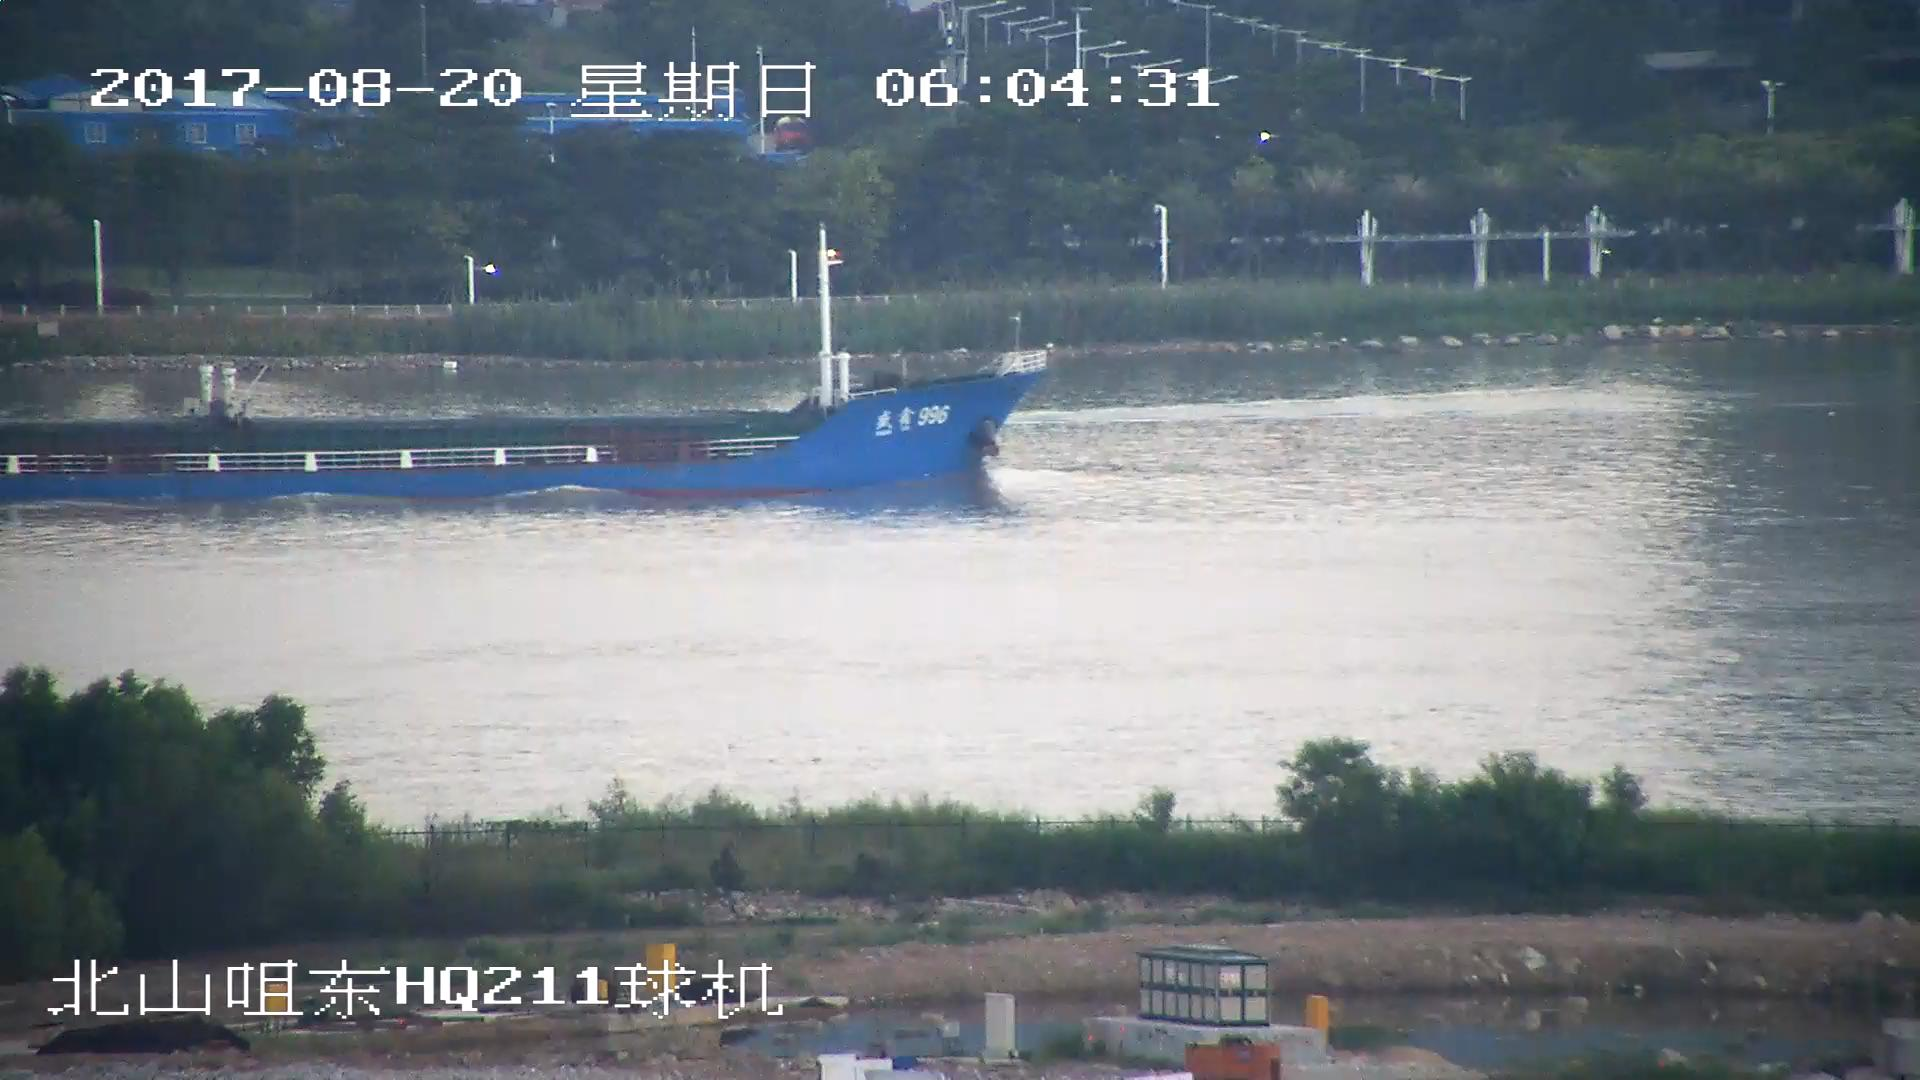general cargo ship: (1, 263, 1029, 488)
